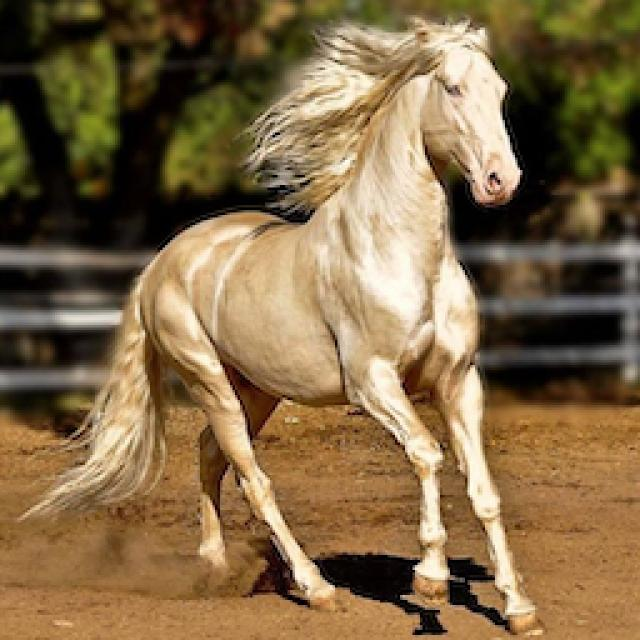Horse: (15, 12, 555, 638)
